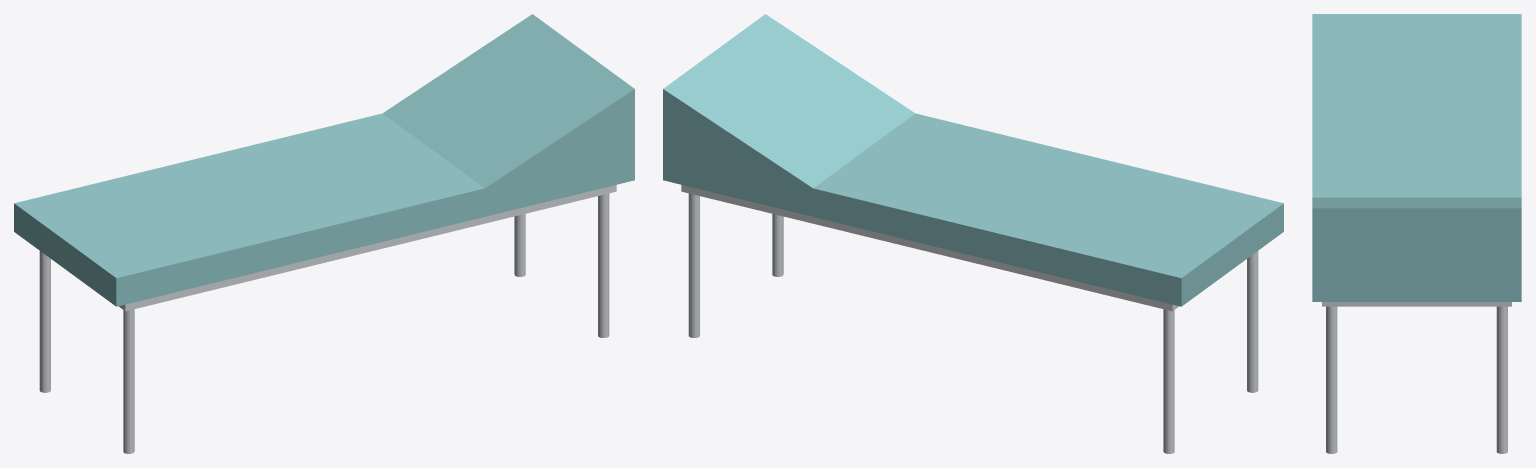
Rendered from kushetka-smotrovaya.glb.
The picture shows the model from 3 angles, left to right: view 1: azimuth 30°, elevation 25°; view 2: azimuth 150°, elevation 25°; view 3: azimuth 270°, elevation 25°; orthographic projection. The views are drawn at different scales.
Size of the model in its own units: 1.9 by 0.87 by 0.65.
